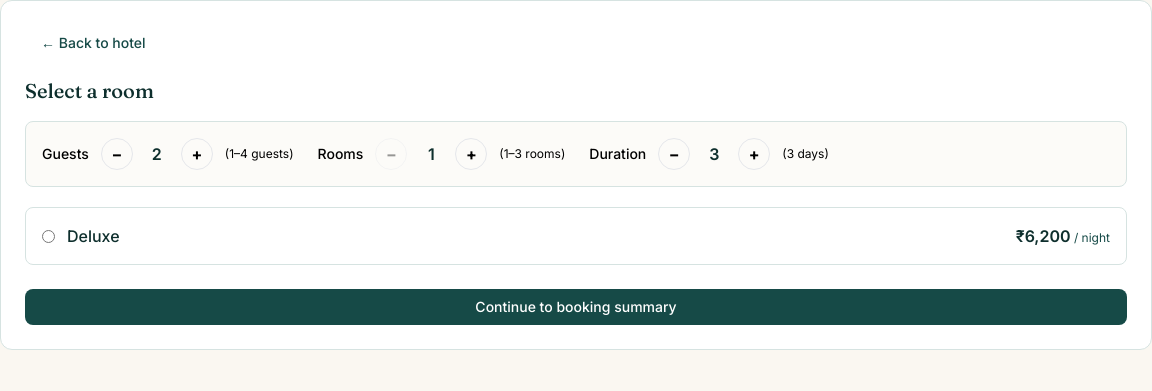
Scenario: RoomSelection: cannot continue without a room
Click the button "Continue to booking summary" at (576, 307), box [25,289,1127,325]
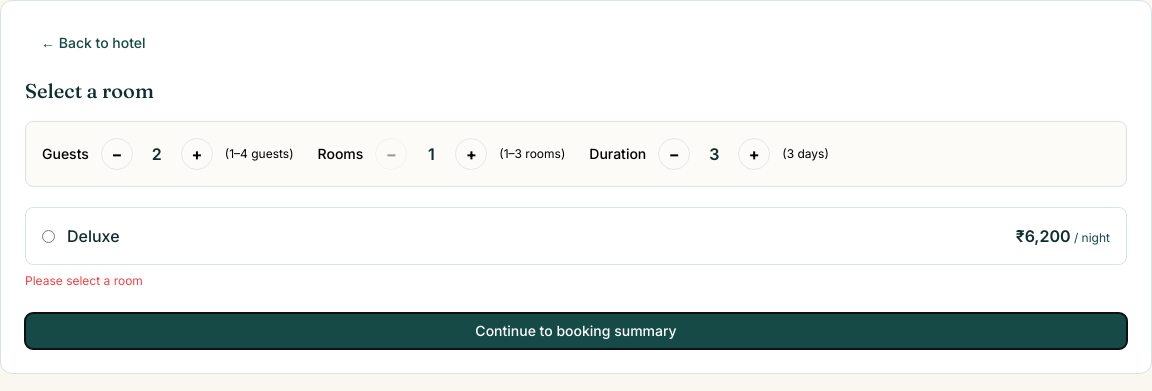
Check: the text "Please select a room" is shown, box [25,273,143,288]
